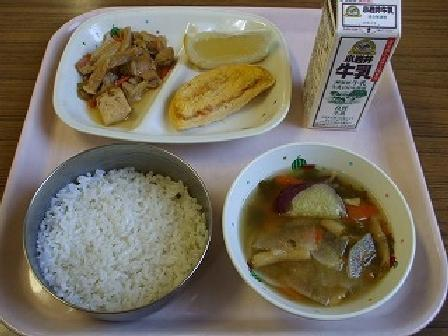Citrus: (174, 11, 289, 76)
Milk: (294, 0, 410, 133)
Rice: (40, 144, 205, 323)
Soups: (221, 149, 407, 304)
cooked food meat with vegetables: (61, 30, 176, 123)
pastry: (163, 63, 290, 134)
